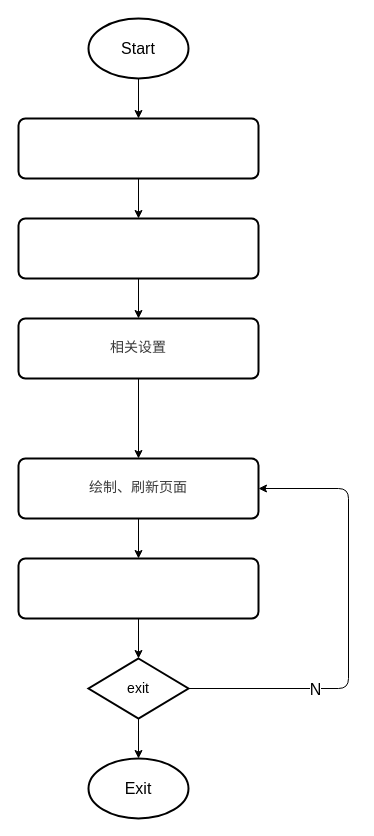
This 374x836 diagram has some shape labels left out. The shapes that lost their labels are listed below. From the top down, each one's centre as x and y in pixels, then its label:
(138,148): 导入pygame、sys、etc 库
(138,248): pygame .init ()
(138,588): 获取事件，并逐类响应
